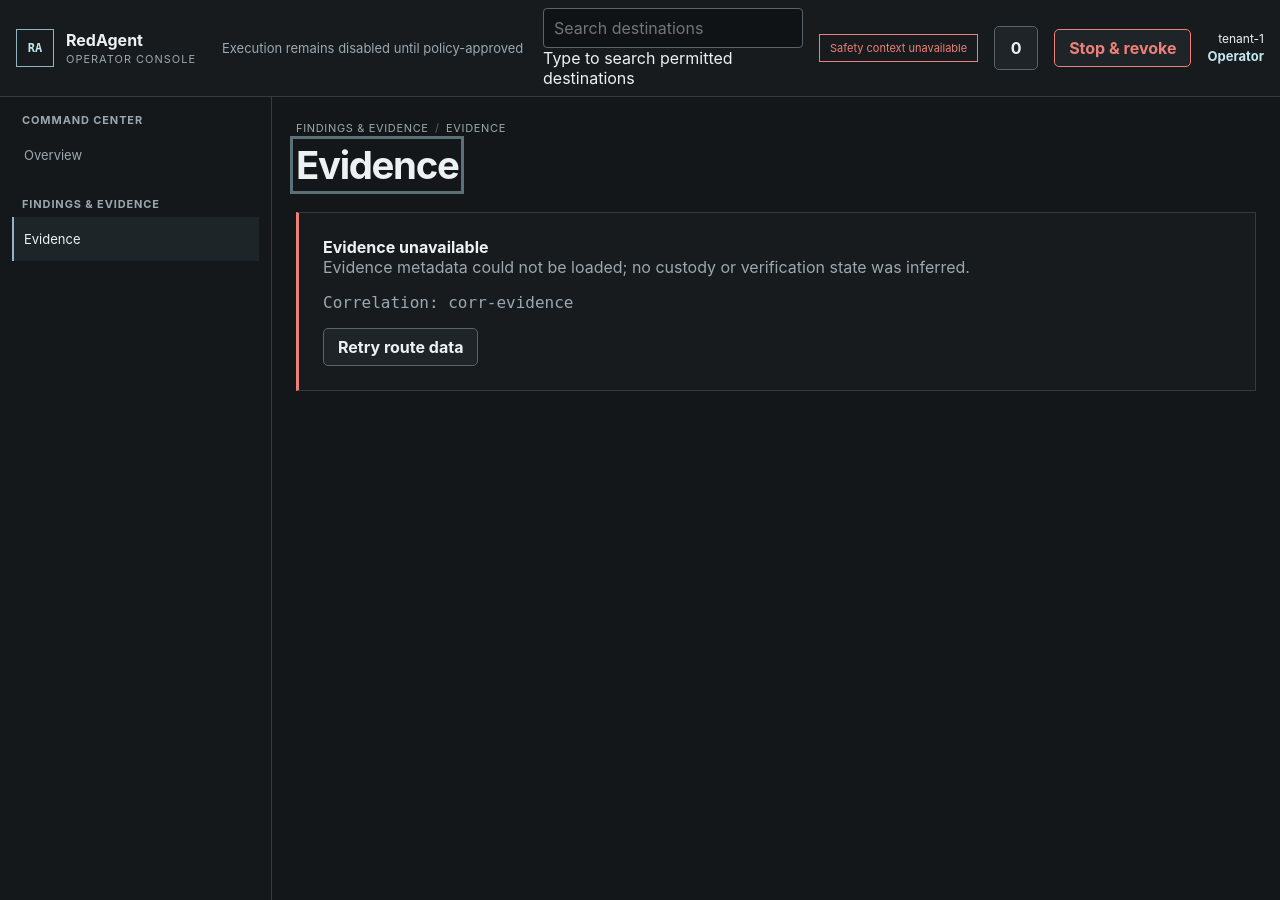
persistent evidence console › projects an evidence outage with correlation and retries without inferring custody state
Check: the message "Evidence unavailable" is shown, box [296,212,1256,391]
Check: the text "Correlation: corr-evidence" is shown, box [323,293,574,312]
Click the button "Retry route data" at (401,347), box [323,328,478,366]
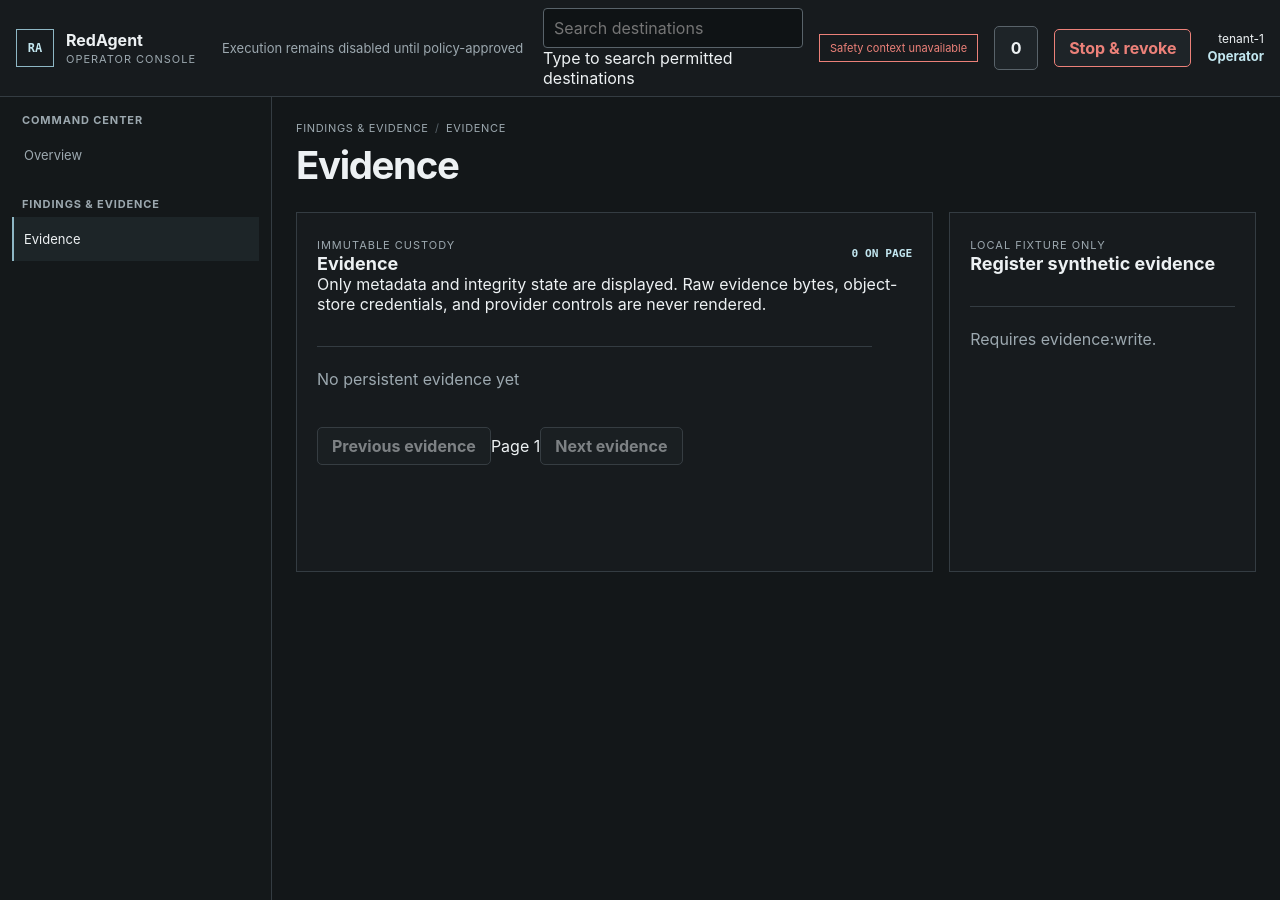
Check: the text "No persistent evidence yet" is shown, box [317,346,872,411]
